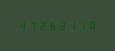four: (17, 20, 26, 31)
one: (67, 19, 76, 30), (77, 19, 86, 30)
seven: (27, 20, 36, 31)
six: (47, 20, 56, 31)
three: (57, 20, 66, 30)
two: (37, 20, 46, 31)
zero: (87, 19, 96, 30)
